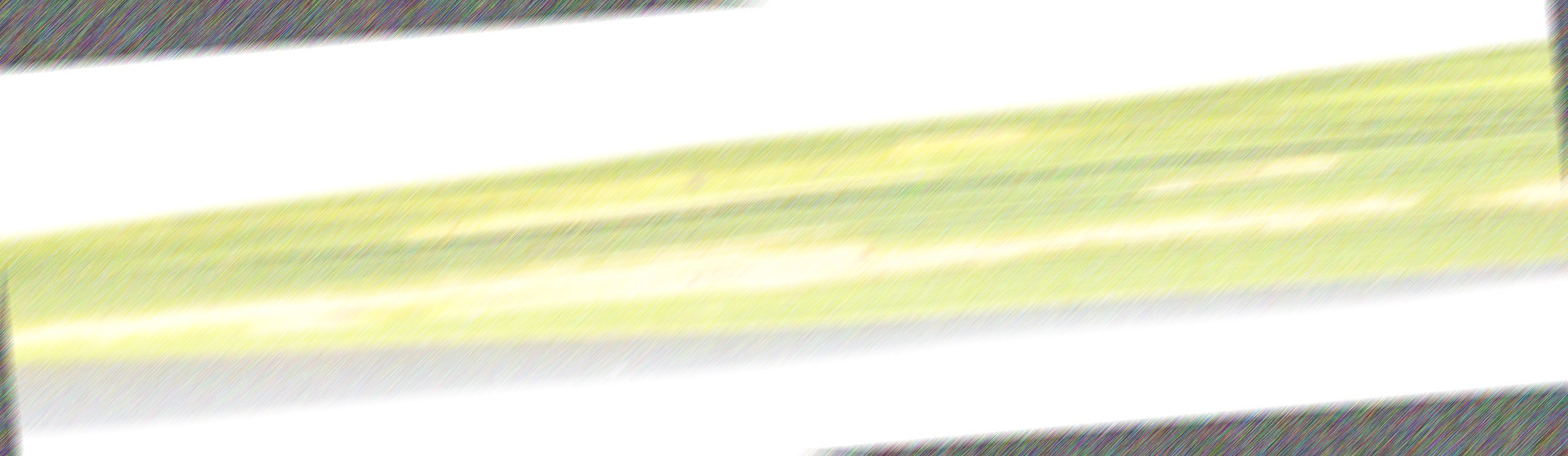Leaf_Blast: (383, 109, 1397, 240), (8, 223, 1568, 302)
